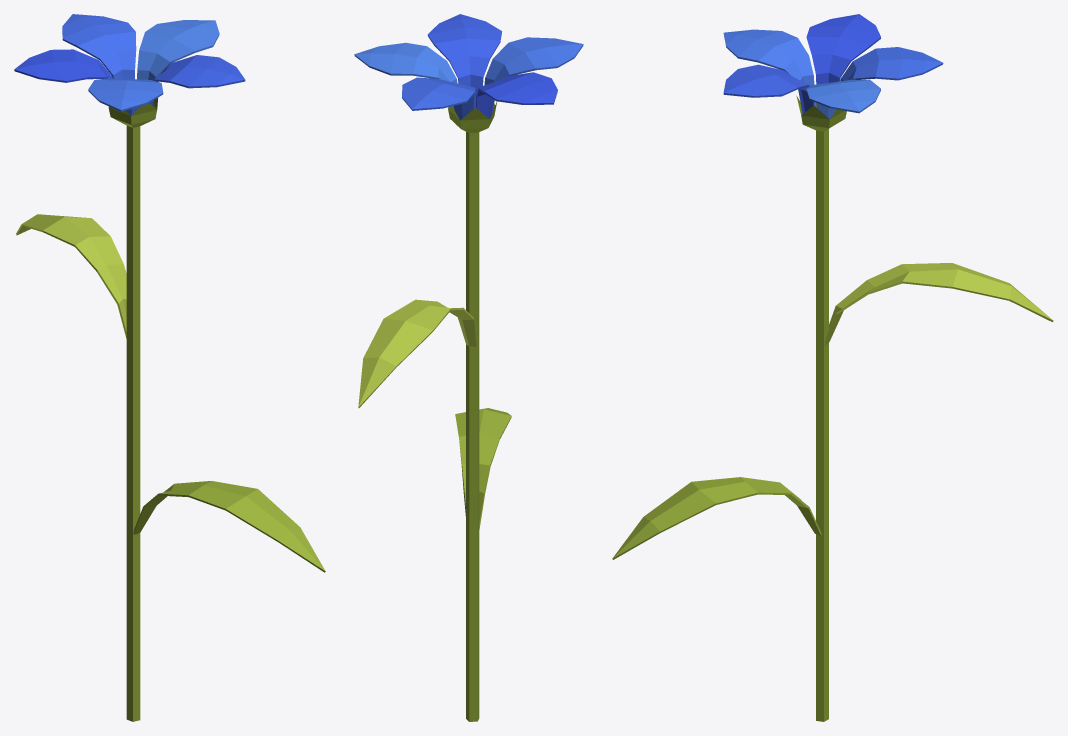
Rendered from NHP_Flower_LP_A1_H70cm_02.fbx.
3 renders of one model, left to right at view 1: azimuth 30°, elevation 25°; view 2: azimuth 150°, elevation 25°; view 3: azimuth 270°, elevation 25°, orthographic.
Parts seen in each view (by area): view 1: NHP_Flower_LP_A1_H70cm_02_LOD0; view 2: NHP_Flower_LP_A1_H70cm_02_LOD0; view 3: NHP_Flower_LP_A1_H70cm_02_LOD0.
Part boxes in pixels (x1,y1,x2,y2): NHP_Flower_LP_A1_H70cm_02_LOD0: [14, 14, 325, 721]; NHP_Flower_LP_A1_H70cm_02_LOD0: [354, 14, 583, 721]; NHP_Flower_LP_A1_H70cm_02_LOD0: [612, 14, 1053, 721].
Size of what is drawn, in the model's own units: 0.2224 by 0.7007 by 0.425.
